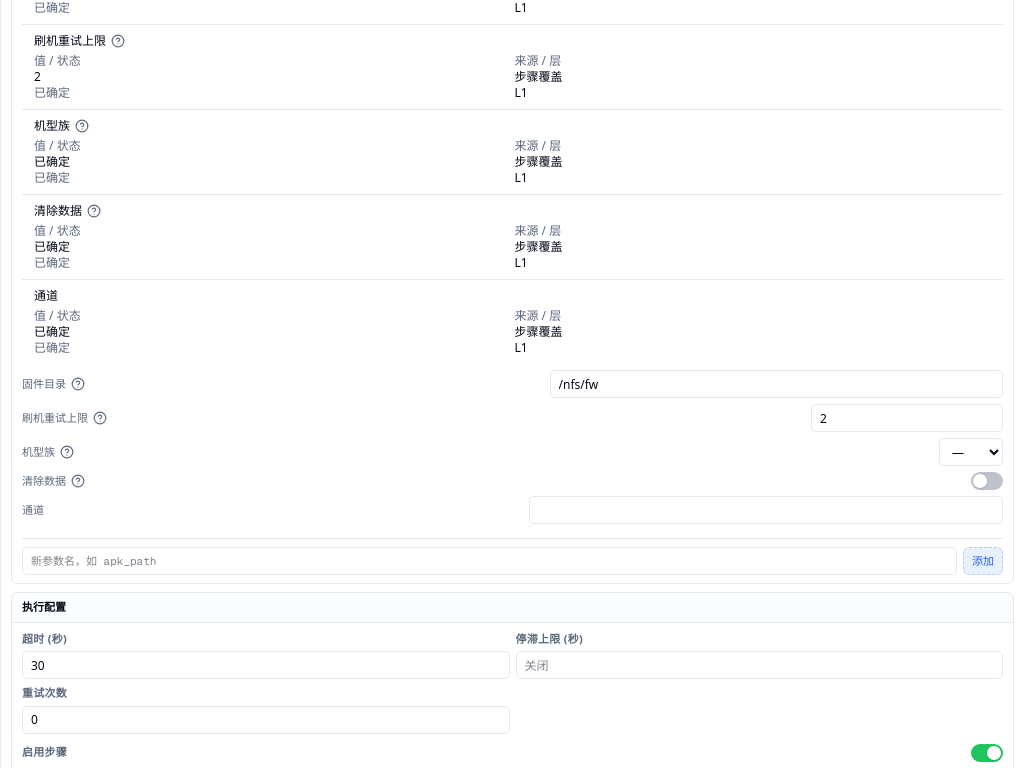
Scenario: PlanStepInspector › 参数说明 › 字段已有值时说明仍可通过帮助图标到达（不依赖 placeholder）
(page scrolled)
Expected: the field named "固件目录" holds "/nfs/fw", top-left (550, 370), bottom-right (1003, 398)
Expected: the text "NFS 相对或绝对路径。缺省走指纹路由" is not shown
Hover over the button named "固件目录的说明" at (78, 384), box top-left (70, 376), bottom-right (86, 392)
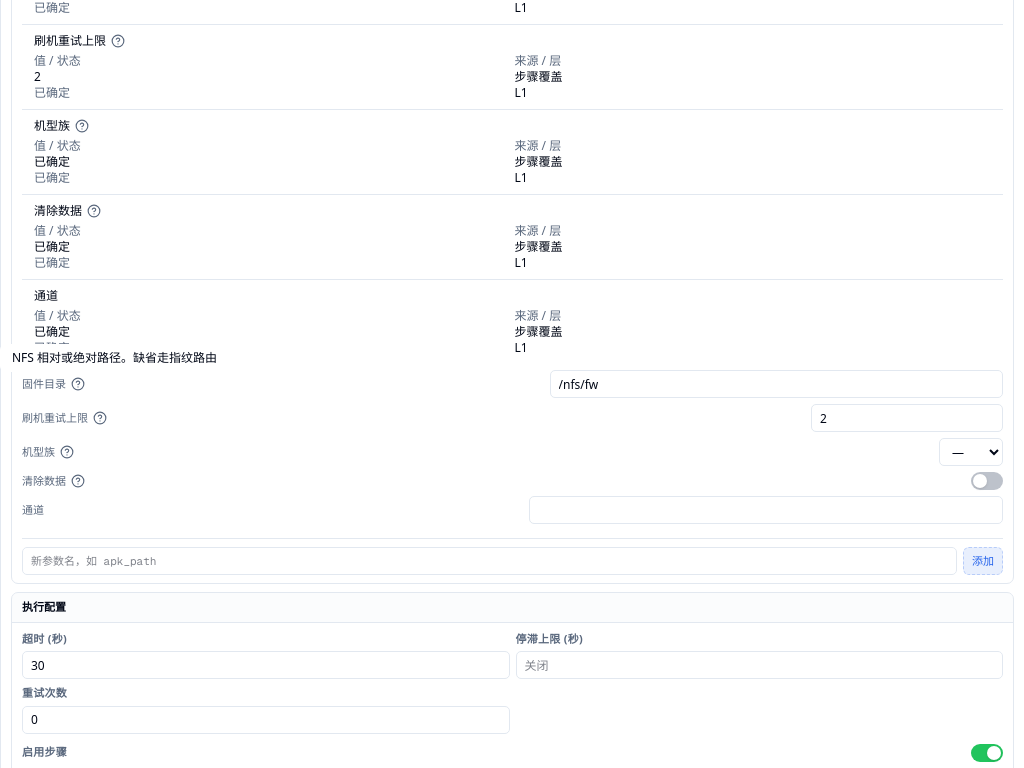
Expected: the tooltip reads "NFS 相对或绝对路径。缺省走指纹路由", top-left (12, 349), bottom-right (217, 366)
